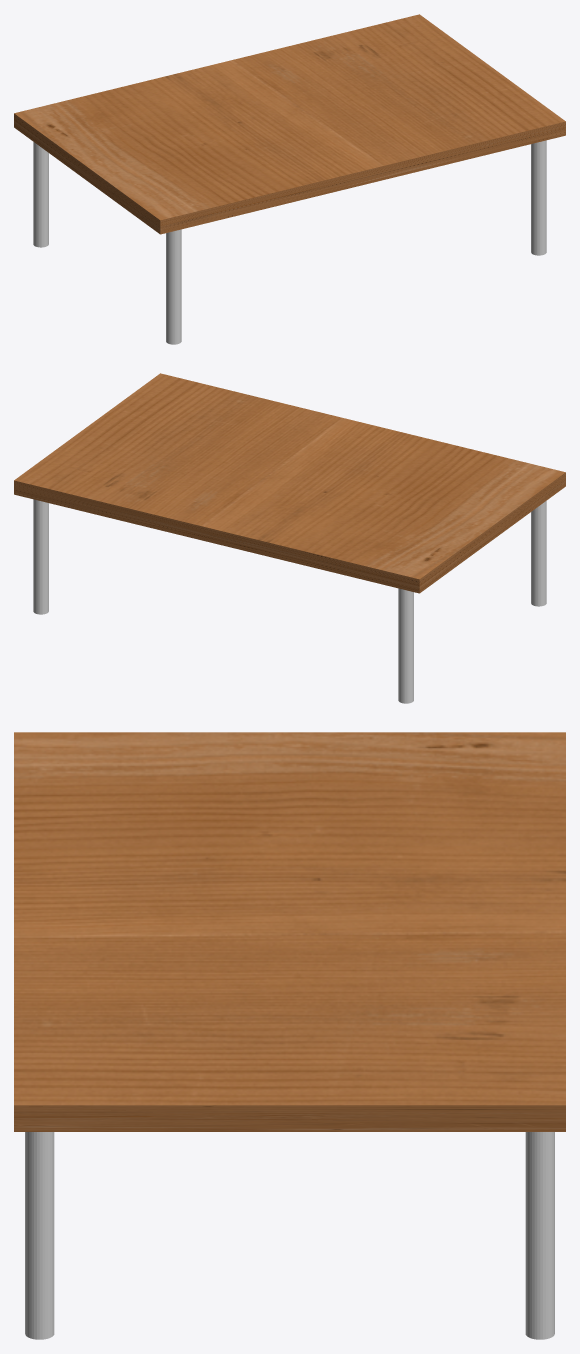
Rendered from table02.glb.
3 views of the same model, one above another, from view 1: azimuth 30°, elevation 25°; view 2: azimuth 150°, elevation 25°; view 3: azimuth 270°, elevation 25° (orthographic). The views are drawn at different scales.
Parts seen in each view (by area): view 1: 立方体.001, 円柱.004, 円柱.005, 円柱.007; view 2: 立方体.001, 円柱.006, 円柱.007, 円柱.005; view 3: 立方体.001, 円柱.006, 円柱.004.
Part boxes in pixels (box(x1,y1,x2,y2)): 立方体.001: box(14, 14, 565, 234); 円柱.004: box(531, 140, 546, 255); 円柱.005: box(166, 229, 181, 344); 円柱.007: box(33, 142, 48, 247); 立方体.001: box(14, 373, 565, 593); 円柱.006: box(33, 499, 48, 614); 円柱.007: box(398, 588, 413, 703); 円柱.005: box(531, 501, 546, 606); 立方体.001: box(14, 732, 565, 1131); 円柱.006: box(525, 1132, 554, 1339); 円柱.004: box(25, 1132, 54, 1339).
Bounding box in the file's own units: 1.2 × 0.37 × 0.75.
Materials: 1 (1 with a texture image).
